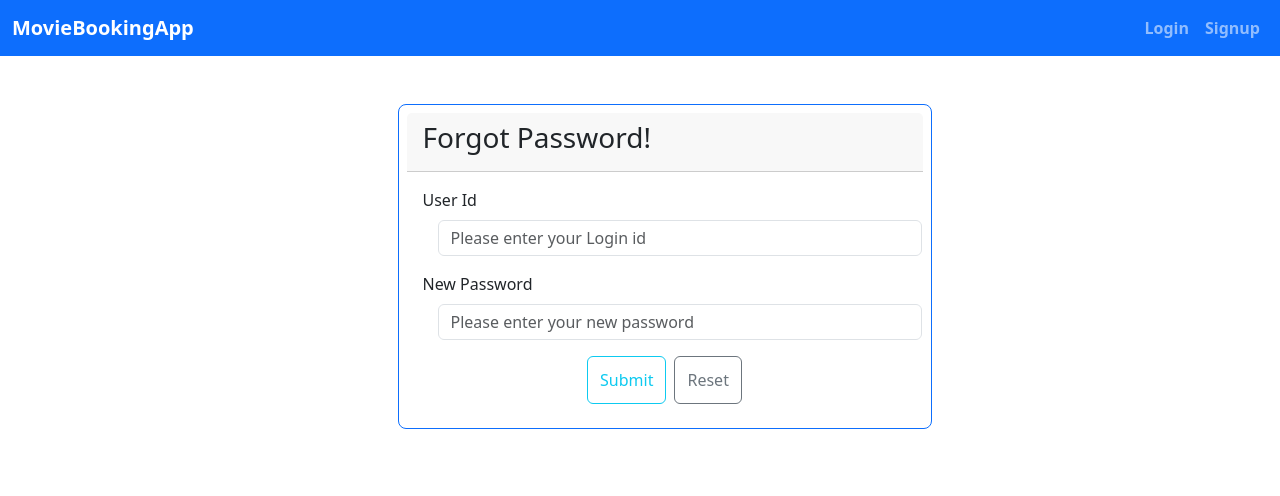
ForgotPassword Component › shows validation errors for missing fields
Click the button "Submit" at x=627, y=380, box [587,356,666,404]
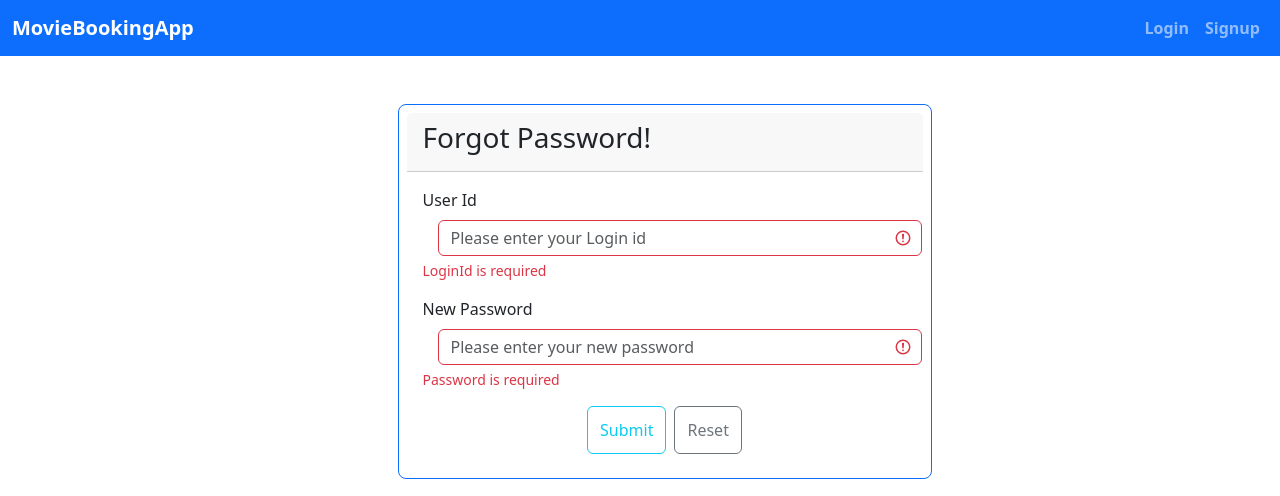
Result: the text "LoginId is required" is shown at [422,261,546,280]
Result: the text "Password is required" is shown at [422,370,560,389]
